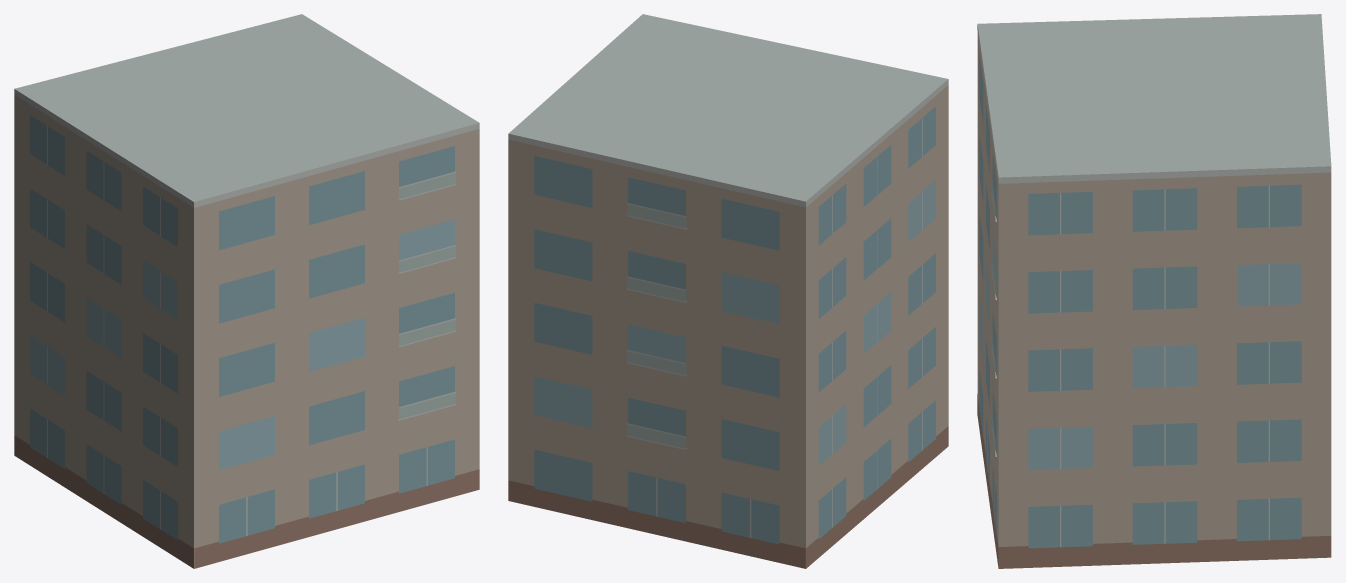
Rendered from survey-upis-32644425.glb.
3 views of the same model, side by side, from view 1: azimuth 30°, elevation 25°; view 2: azimuth 150°, elevation 25°; view 3: azimuth 270°, elevation 25° (orthographic). The views are drawn at different scales.
Visible parts, largest first — view 1: survey-upis-32644425.tmp; view 2: survey-upis-32644425.tmp; view 3: survey-upis-32644425.tmp.
Part boxes in pixels (x1,y1,x2,y2): survey-upis-32644425.tmp: [14, 14, 479, 568]; survey-upis-32644425.tmp: [508, 14, 948, 568]; survey-upis-32644425.tmp: [977, 14, 1331, 568].
Size of the model in its own units: 13.68 by 15.25 by 12.51.
